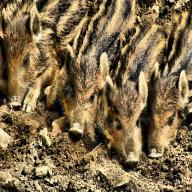boar: (100, 19, 164, 186), (0, 0, 90, 107), (68, 0, 125, 141), (143, 13, 192, 169)
